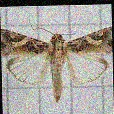Spodoptera litura: (1, 16, 112, 103)
